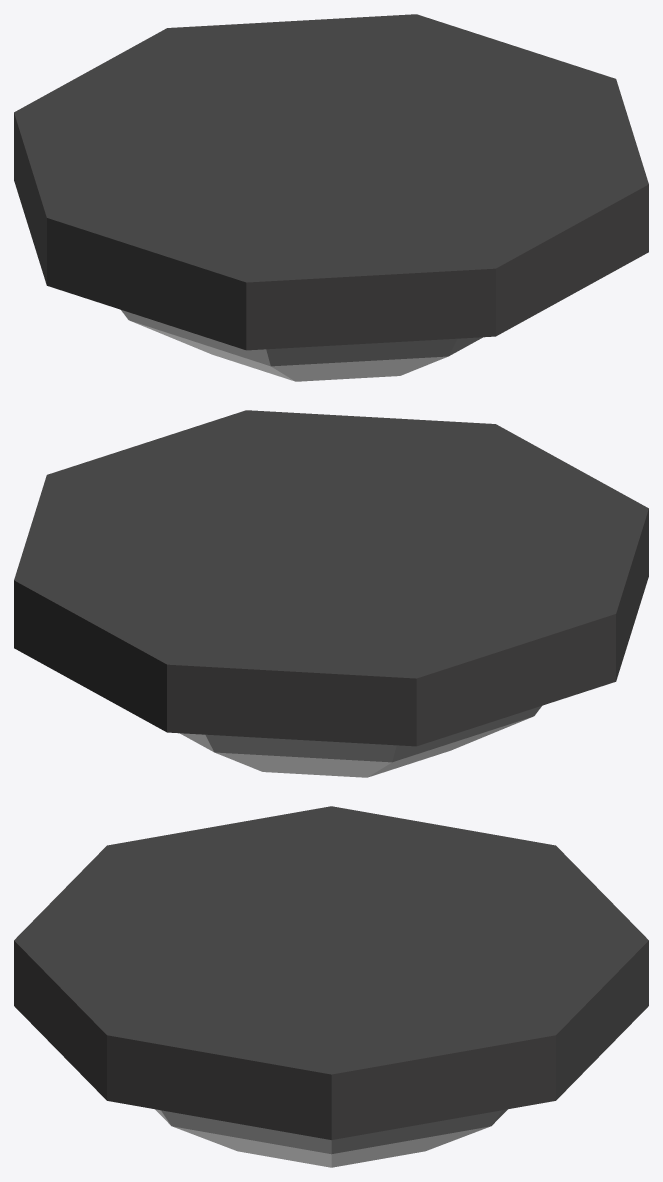
Rendered from SM_Prop_CeilingLight_02.fbx.
3 renders of one model, top to bottom at view 1: azimuth 30°, elevation 25°; view 2: azimuth 150°, elevation 25°; view 3: azimuth 270°, elevation 25°, orthographic. The views are drawn at different scales.
Visible parts, largest first — view 1: SM_Prop_CeilingLight_02; view 2: SM_Prop_CeilingLight_02; view 3: SM_Prop_CeilingLight_02.
Boxes of the visible parts, <box> form: SM_Prop_CeilingLight_02: <box>14,14,648,381</box>; SM_Prop_CeilingLight_02: <box>14,410,648,777</box>; SM_Prop_CeilingLight_02: <box>14,806,648,1167</box>.
Size of the model in its own units: 36.83 by 10.96 by 36.83.
